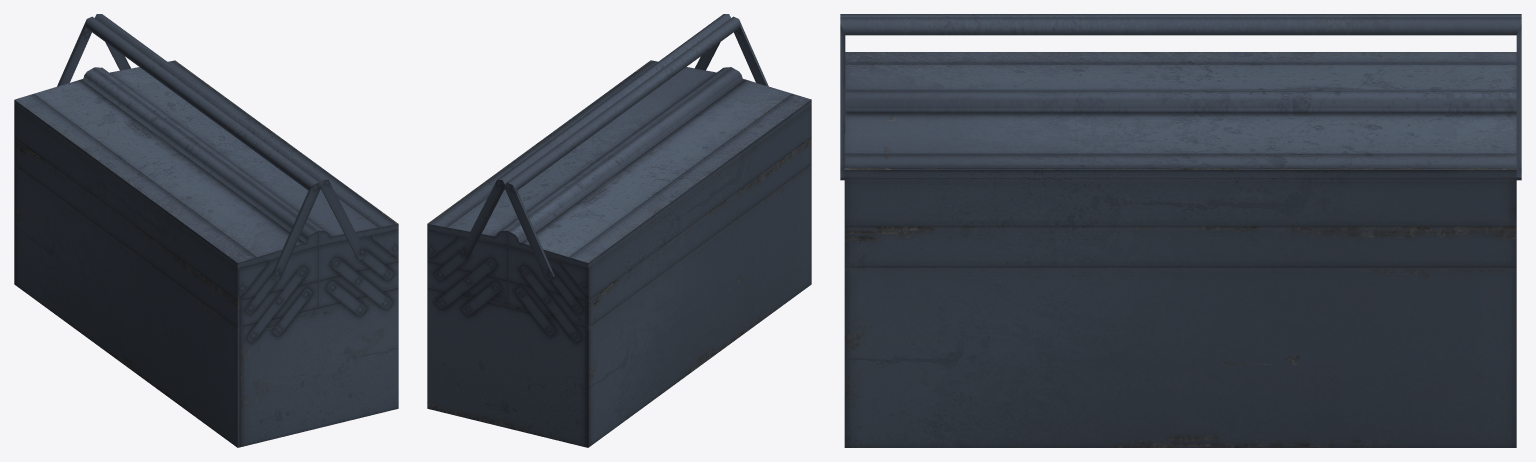
File: ms_toolbox_metal.fbx
3 views of the same model, side by side, from view 1: azimuth 30°, elevation 25°; view 2: azimuth 150°, elevation 25°; view 3: azimuth 270°, elevation 25° (orthographic). The views are drawn at different scales.
Visible parts, largest first — view 1: ms_toolbox_metal; view 2: ms_toolbox_metal; view 3: ms_toolbox_metal.
Boxes of the visible parts, x1=… form: ms_toolbox_metal: x1=14, y1=14, x2=398, y2=447; ms_toolbox_metal: x1=427, y1=14, x2=811, y2=447; ms_toolbox_metal: x1=840, y1=14, x2=1521, y2=447.
Size of the model in its own units: 20.26 by 29.9 by 49.37.
